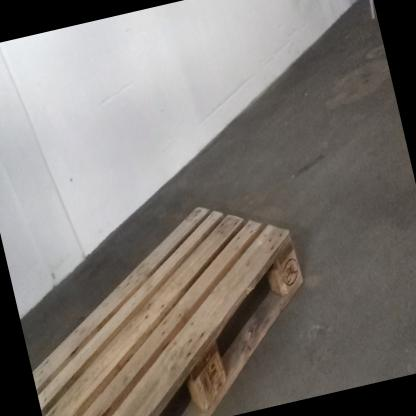BoxFace: (32, 207, 306, 416)
